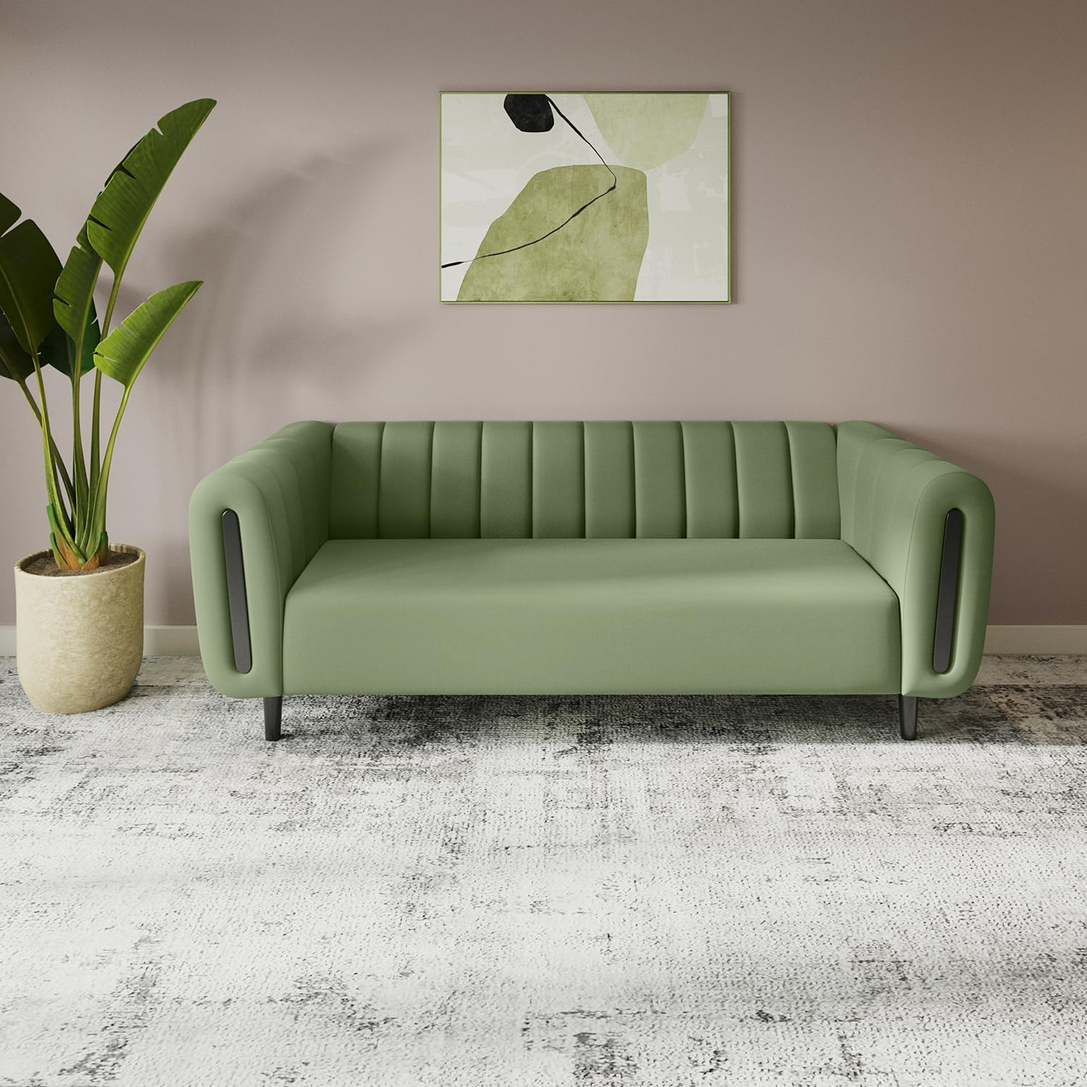3seatersofa: (191, 420, 994, 739)
backrest: (326, 423, 838, 536)
leftarmrest: (836, 423, 995, 696)
leg: (258, 691, 285, 742), (899, 703, 925, 739)
rightarmrest: (186, 423, 333, 691)
seat: (273, 534, 901, 696)
